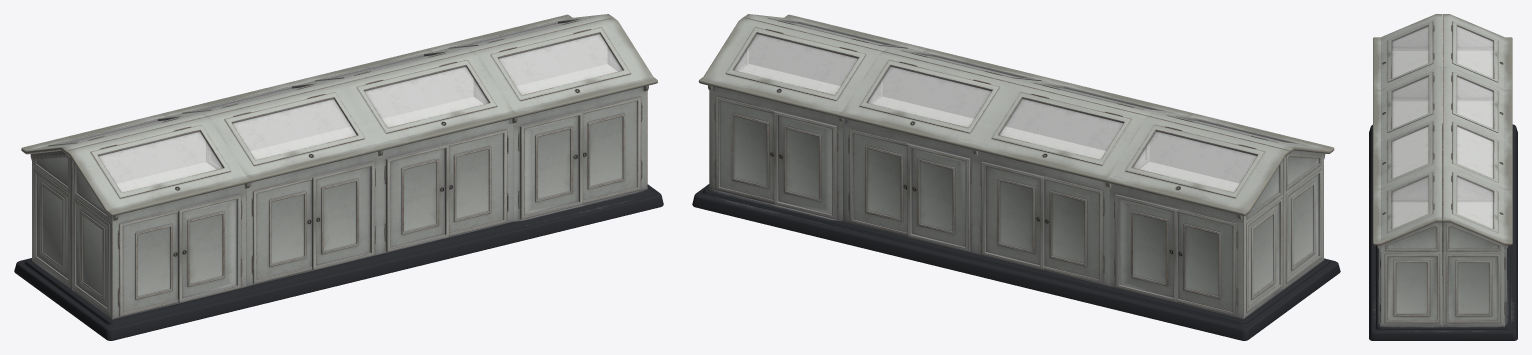
File: cabinet02.glb
3 views of the same model, side by side, from view 1: azimuth 30°, elevation 25°; view 2: azimuth 150°, elevation 25°; view 3: azimuth 270°, elevation 25° (orthographic). The views are drawn at different scales.
Parts seen in each view (by area): view 1: MAIN; view 2: MAIN; view 3: MAIN.
Boxes of the visible parts, x1,y1,x2,y2 form: MAIN: [14, 14, 663, 340]; MAIN: [692, 14, 1340, 340]; MAIN: [1369, 14, 1517, 340].
Bounding box in the file's own units: 4.24 × 1.13 × 1.27.
3 materials, 3 textured.
